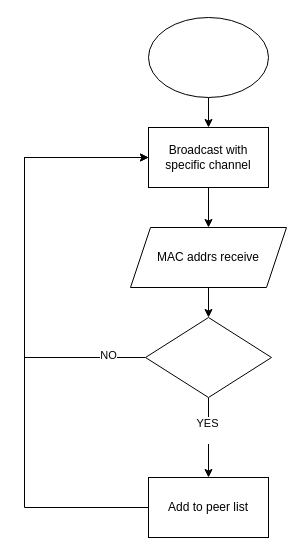
This 304x555 diagram has some shape labels left out. Each missing label, with the centre of its shape:
"Begin" belongs at point 208,57.
"New MAC addr" belongs at point 208,357.
